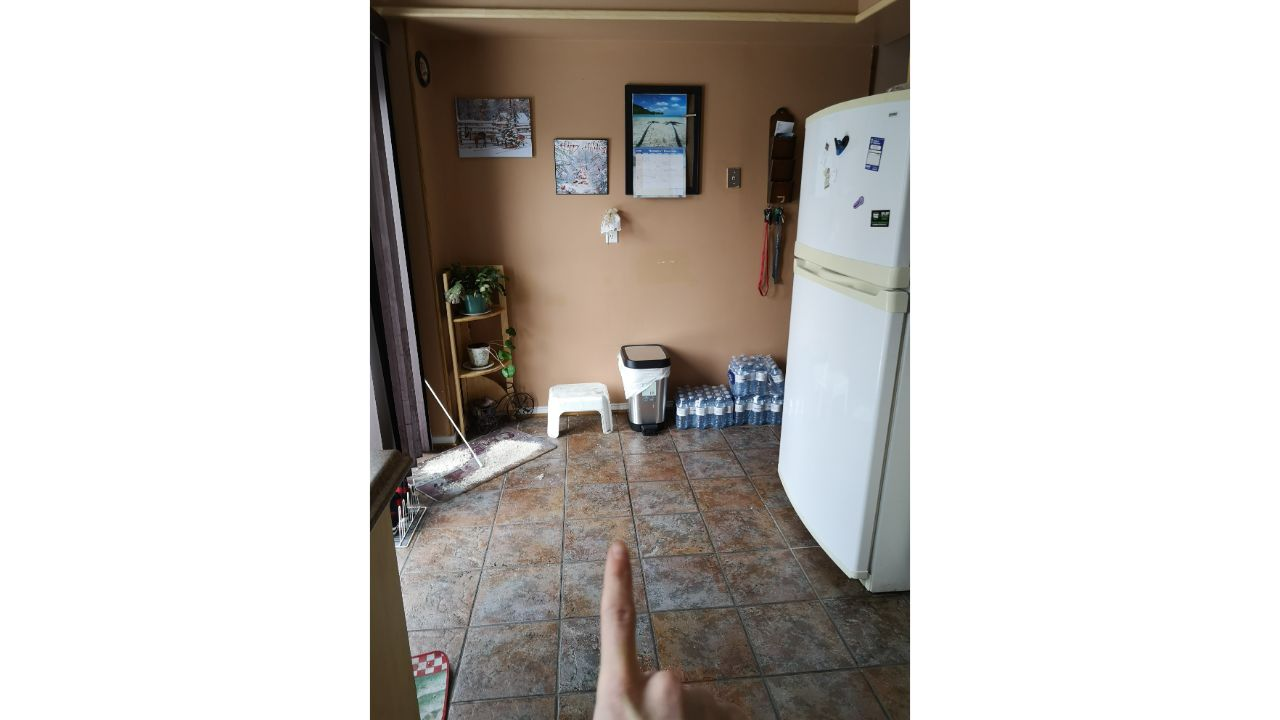finger: (562, 542, 705, 720)
